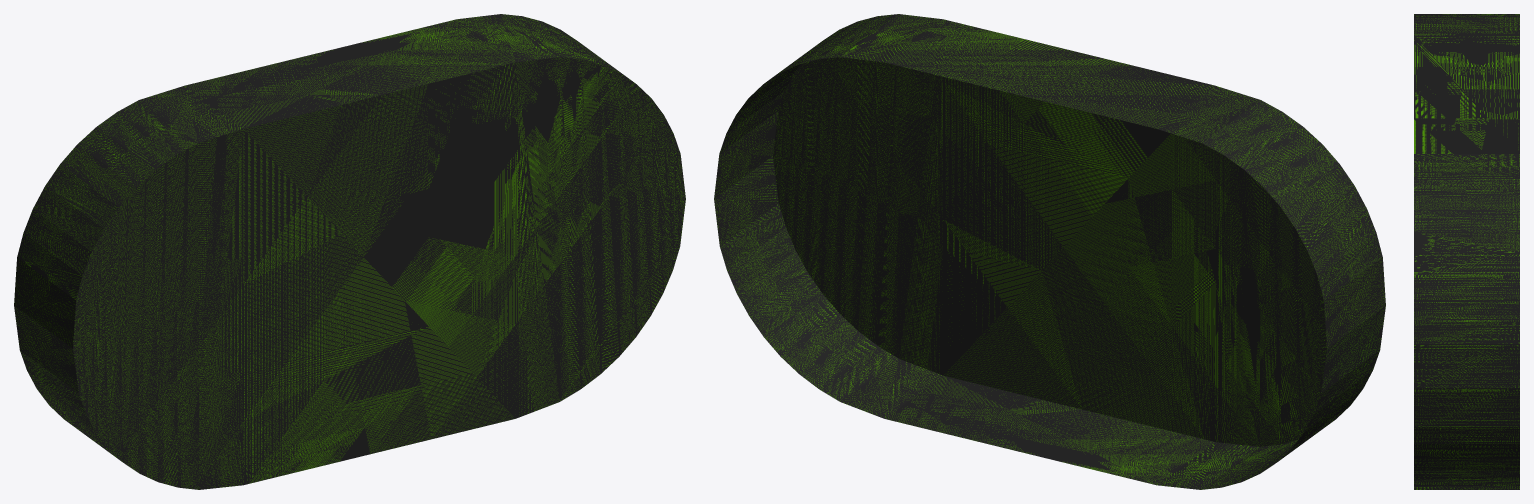
File: original-39.obj
3 views of the same model, side by side, from view 1: azimuth 30°, elevation 25°; view 2: azimuth 150°, elevation 25°; view 3: azimuth 270°, elevation 25° (orthographic). The views are drawn at different scales.
Parts seen in each view (by area): view 1: mesh9/mesh9-geometry/material_0/component_26#mesh9-geometry; view 2: mesh9/mesh9-geometry/material_0/component_26#mesh9-geometry; view 3: mesh9/mesh9-geometry/material_0/component_26#mesh9-geometry.
Boxes of the visible parts, x1,y1,x2,y2 form: mesh9/mesh9-geometry/material_0/component_26#mesh9-geometry: [14, 14, 685, 489]; mesh9/mesh9-geometry/material_0/component_26#mesh9-geometry: [714, 14, 1385, 489]; mesh9/mesh9-geometry/material_0/component_26#mesh9-geometry: [1414, 14, 1519, 489].
Bounding box in the file's own units: 0.091 × 0.0506 × 0.0152.
